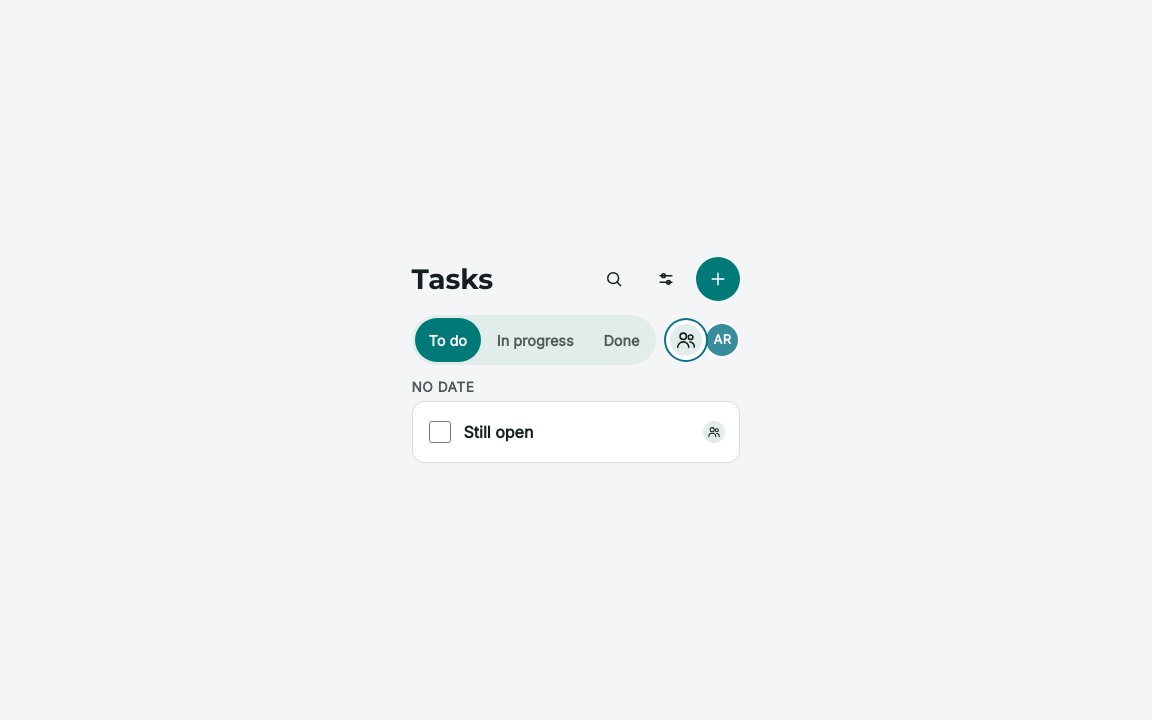
Test: TasksPage › the clear dialog only counts the completed tasks the person may delete
Expected: the text "Still open" is shown, x1=464 y1=422 x2=533 y2=442
What coordinates should you click on to do the following:
click the radio button labelled "Done"
I would click on:
 (621, 340)
Its box is x1=590 y1=318 x2=653 y2=362.
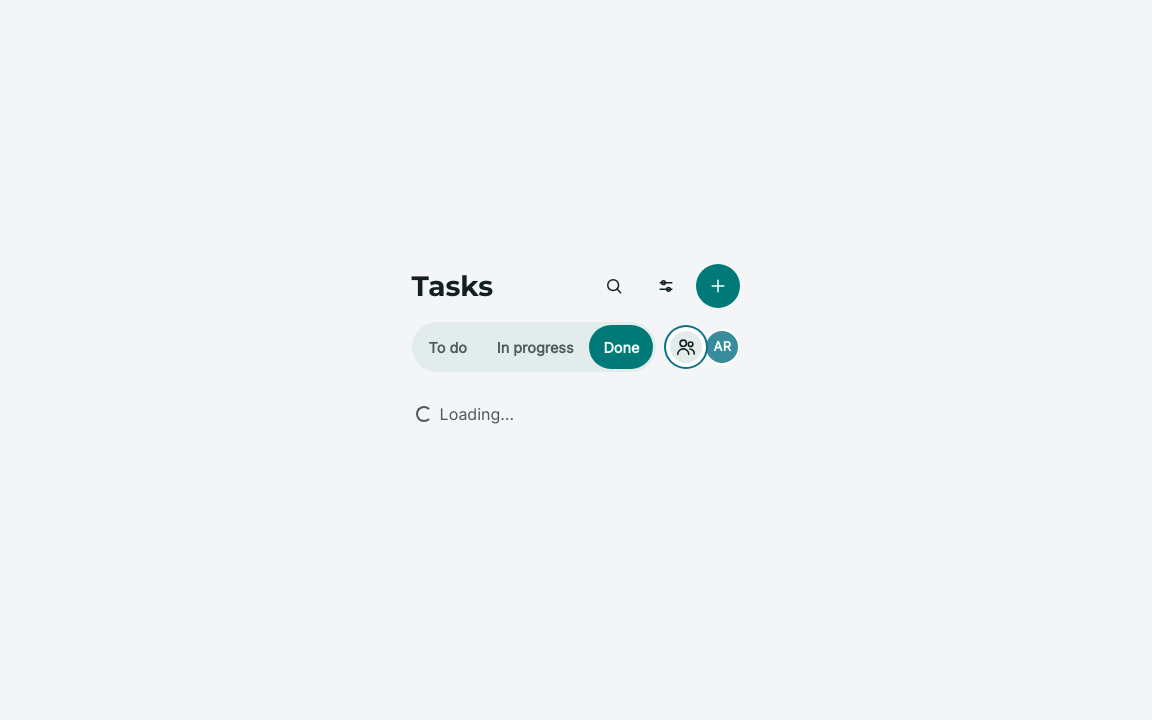
What coordinates should you click on to do the following:
click the button named "View and categories"
I would click on:
 (666, 286)
Its box is x1=644 y1=264 x2=688 y2=308.
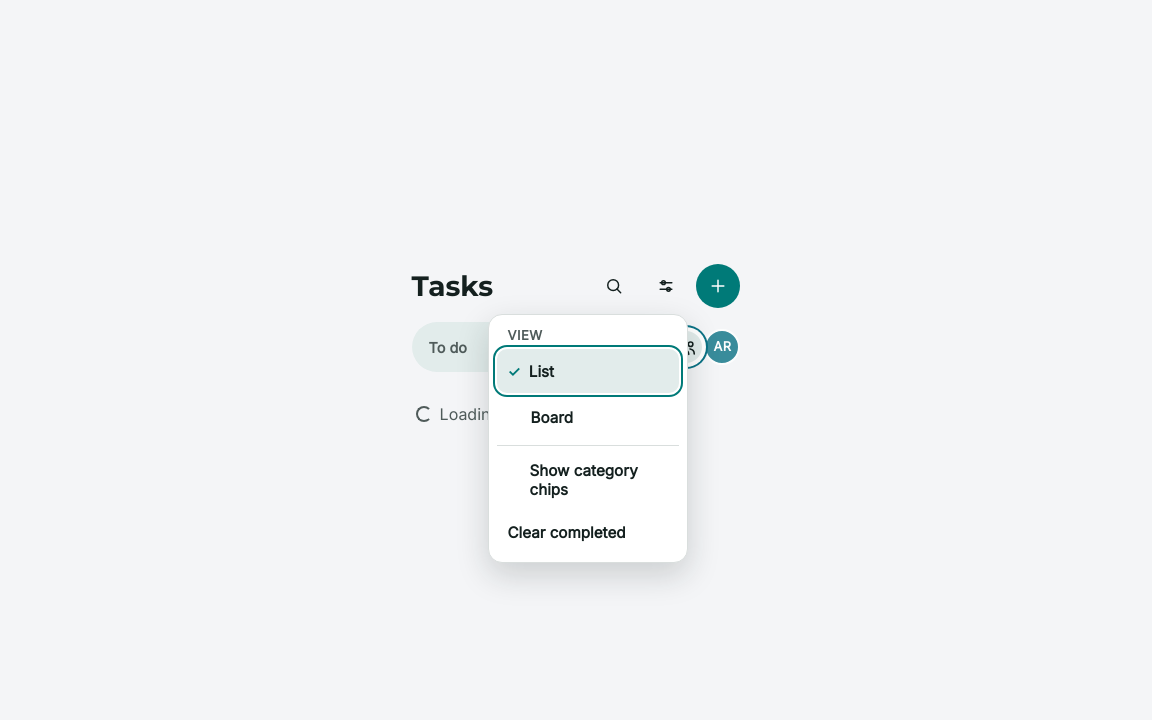
What coordinates should you click on to do the following:
click the menu item "Clear completed"
I would click on:
 (588, 532)
Its box is x1=497 y1=510 x2=679 y2=554.
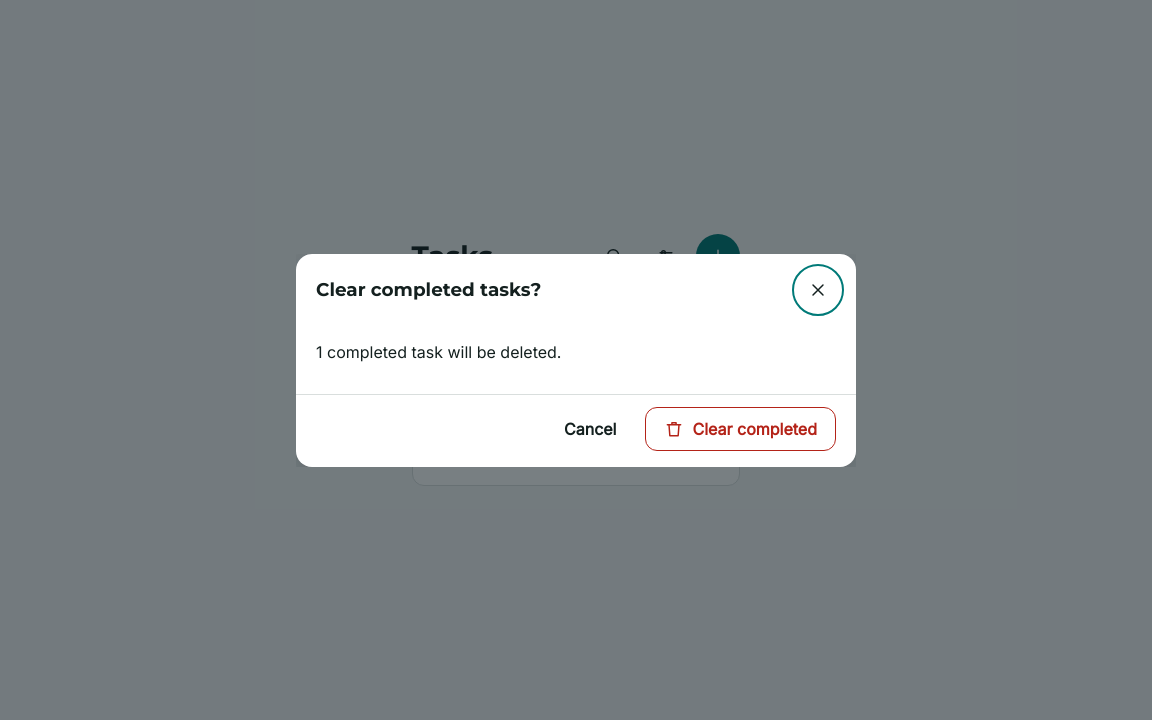
Now the text "1 completed task will be deleted." is shown, box x1=316 y1=342 x2=562 y2=362
